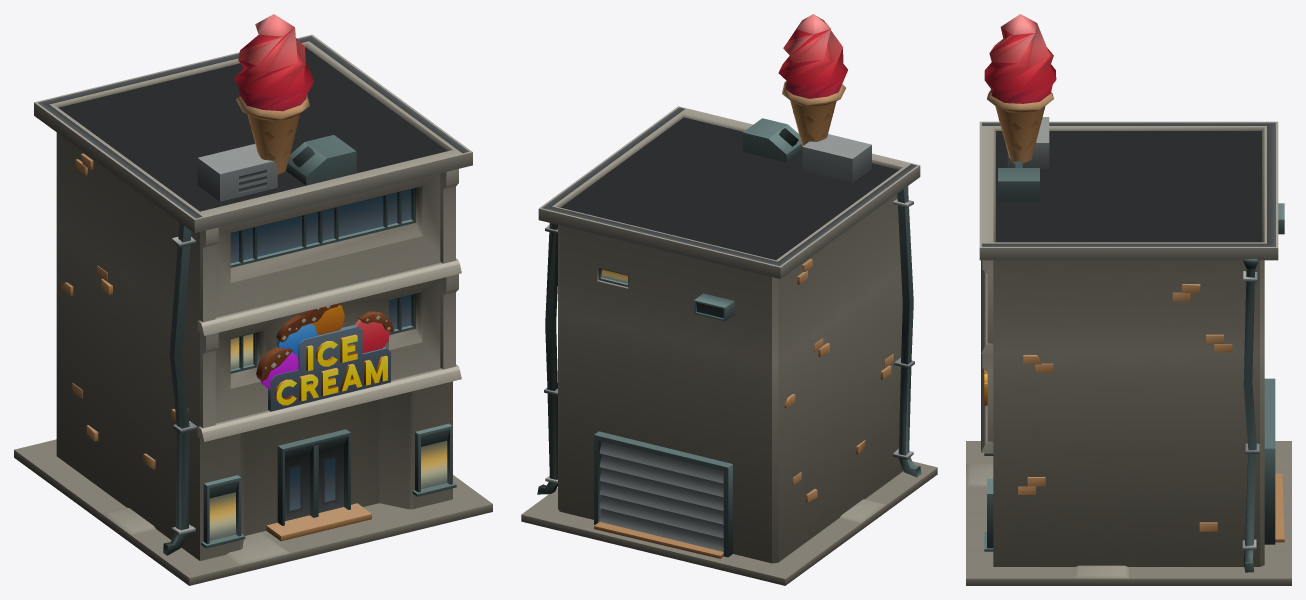
Rendered from Building_9A.fbx.
The picture shows the model from 3 angles, left to right: view 1: azimuth 30°, elevation 25°; view 2: azimuth 150°, elevation 25°; view 3: azimuth 270°, elevation 25°; orthographic projection. The views are drawn at different scales.
Visible parts, largest first — view 1: Building_9A, Cone_9A, Window_Lights_9A; view 2: Building_9A, Cone_9A; view 3: Building_9A, Cone_9A.
Boxes of the visible parts, box(x1,y1,x2,y2) form: Building_9A: box(14, 34, 492, 585); Cone_9A: box(234, 14, 313, 175); Window_Lights_9A: box(209, 334, 447, 540); Building_9A: box(521, 106, 937, 585); Cone_9A: box(778, 14, 847, 146); Building_9A: box(966, 117, 1291, 585); Cone_9A: box(984, 14, 1056, 164).
Bounding box in the file's own units: 12.14 × 19.74 × 12.
